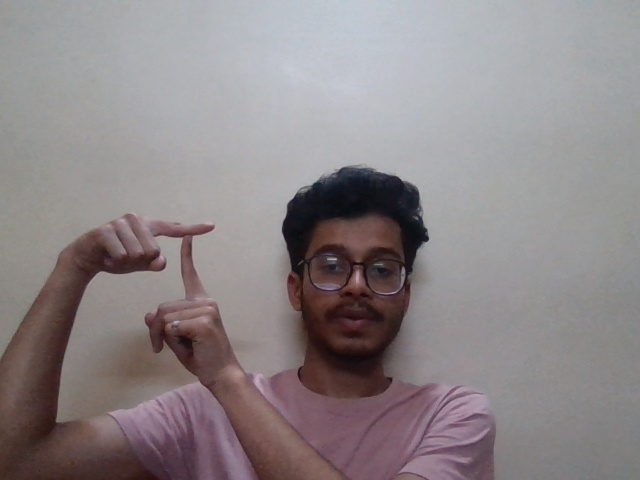T: (137, 207, 248, 378)
